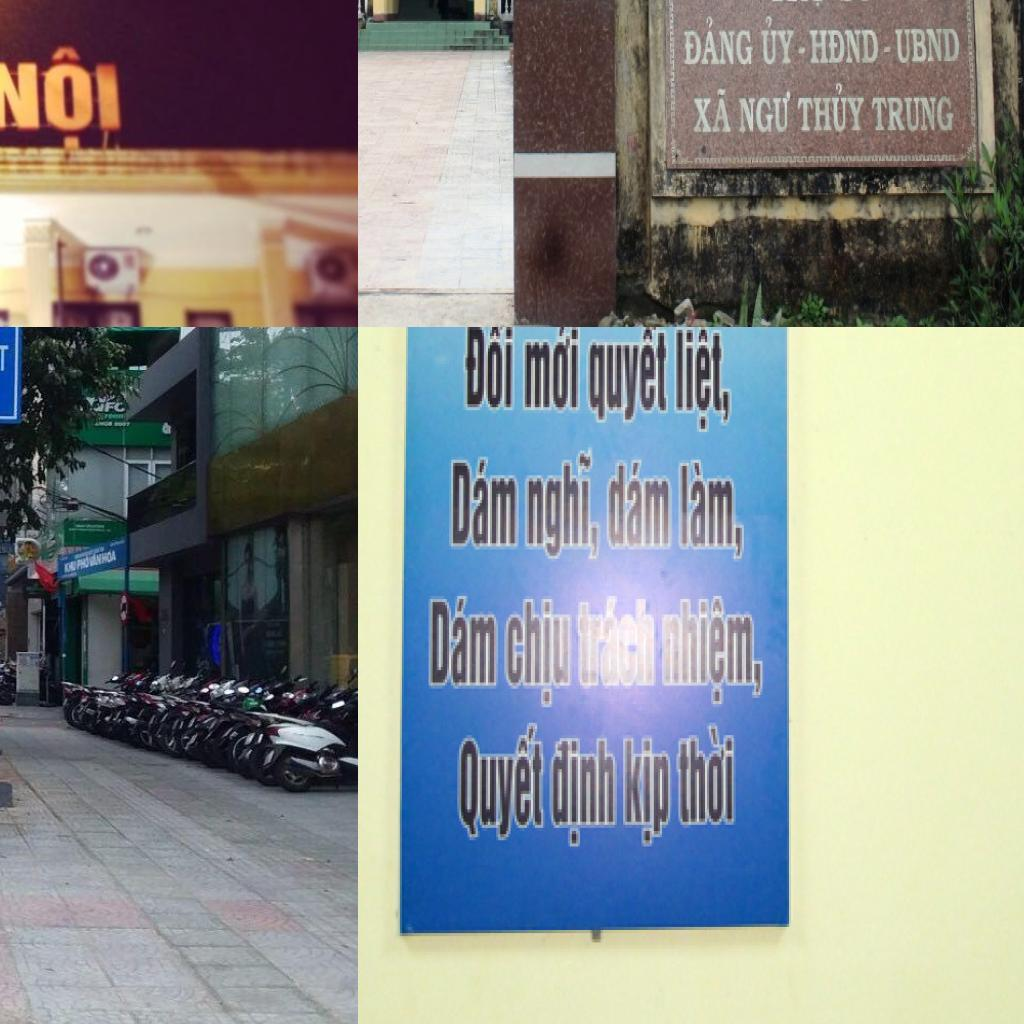text: (660, 596, 766, 710), (453, 722, 547, 850), (522, 447, 602, 568), (500, 596, 576, 713), (584, 327, 670, 428), (549, 732, 619, 856), (576, 596, 658, 695), (424, 596, 502, 695), (678, 457, 748, 565), (443, 456, 521, 552), (670, 327, 737, 438), (674, 723, 740, 834), (603, 460, 674, 556), (621, 738, 674, 850), (522, 327, 582, 416), (461, 327, 518, 413), (683, 15, 754, 69), (797, 82, 868, 134), (871, 95, 955, 135), (808, 28, 880, 68), (894, 26, 961, 66), (738, 90, 792, 135), (692, 87, 734, 135), (760, 15, 798, 67), (767, 0, 827, 9), (0, 342, 12, 379), (104, 400, 128, 414), (102, 549, 118, 566), (78, 556, 90, 572), (90, 553, 102, 568), (64, 560, 76, 574)
